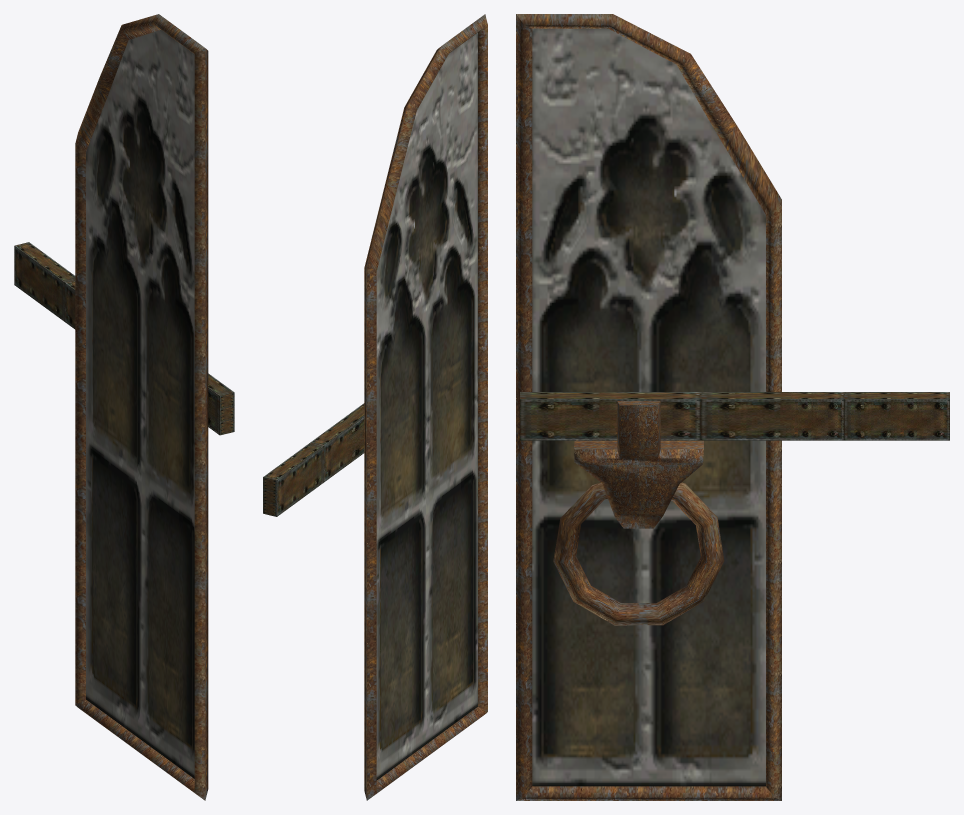
The model's file is ARKENSTON_DOOR_01.fbx.
3 views of the same model, side by side, from view 1: azimuth 30°, elevation 25°; view 2: azimuth 150°, elevation 25°; view 3: azimuth 270°, elevation 25° (orthographic). The views are drawn at different scales.
Parts seen in each view (by area): view 1: ARKENSTON_DOOR_01; view 2: ARKENSTON_DOOR_01; view 3: ARKENSTON_DOOR_01.
Part boxes in pixels (bbox=[...]): ARKENSTON_DOOR_01: bbox=[14, 14, 234, 800]; ARKENSTON_DOOR_01: bbox=[263, 14, 487, 800]; ARKENSTON_DOOR_01: bbox=[516, 14, 949, 800].
Size of the model in its own units: 7568 by 106589 by 53267.
Materials: 3 (3 with a texture image).
